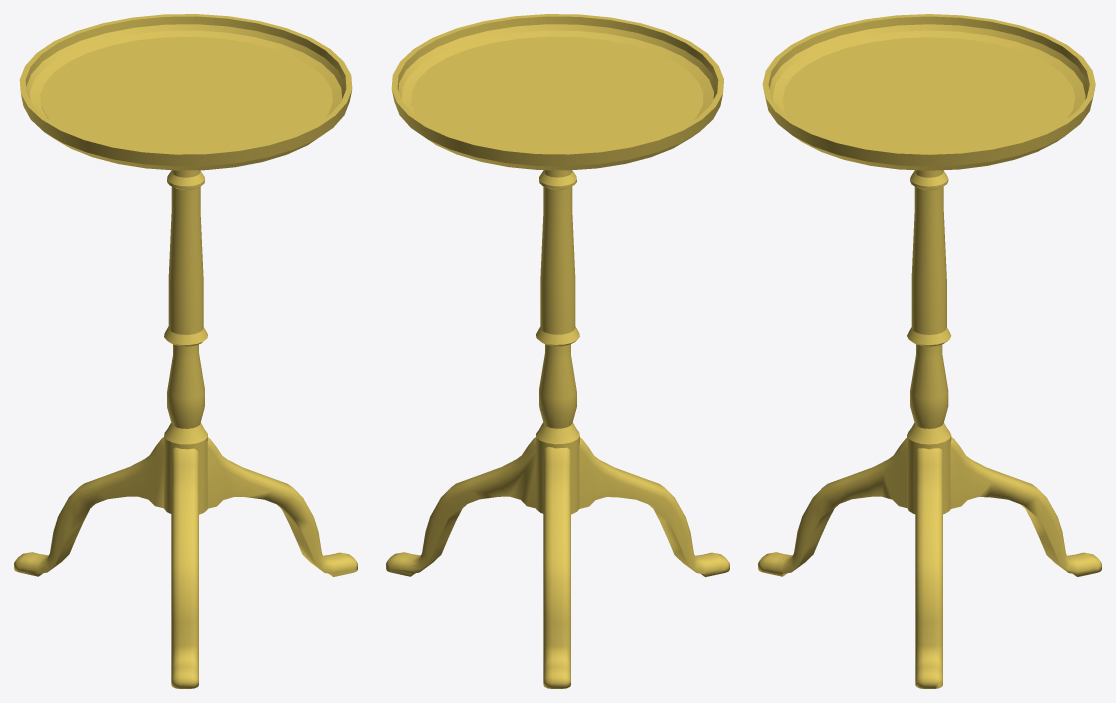
File: table.obj
3 views of the same model, side by side, from view 1: azimuth 30°, elevation 25°; view 2: azimuth 150°, elevation 25°; view 3: azimuth 270°, elevation 25° (orthographic).
Visible parts, largest first — view 1: pedestal_dxf_001; view 2: pedestal_dxf_001; view 3: pedestal_dxf_001.
Part boxes in pixels (x1=…): pedestal_dxf_001: x1=14, y1=14, x2=357, y2=688; pedestal_dxf_001: x1=386, y1=14, x2=729, y2=688; pedestal_dxf_001: x1=758, y1=14, x2=1101, y2=688.
Size of the model in its own units: 17.27 by 27.61 by 16.46.
